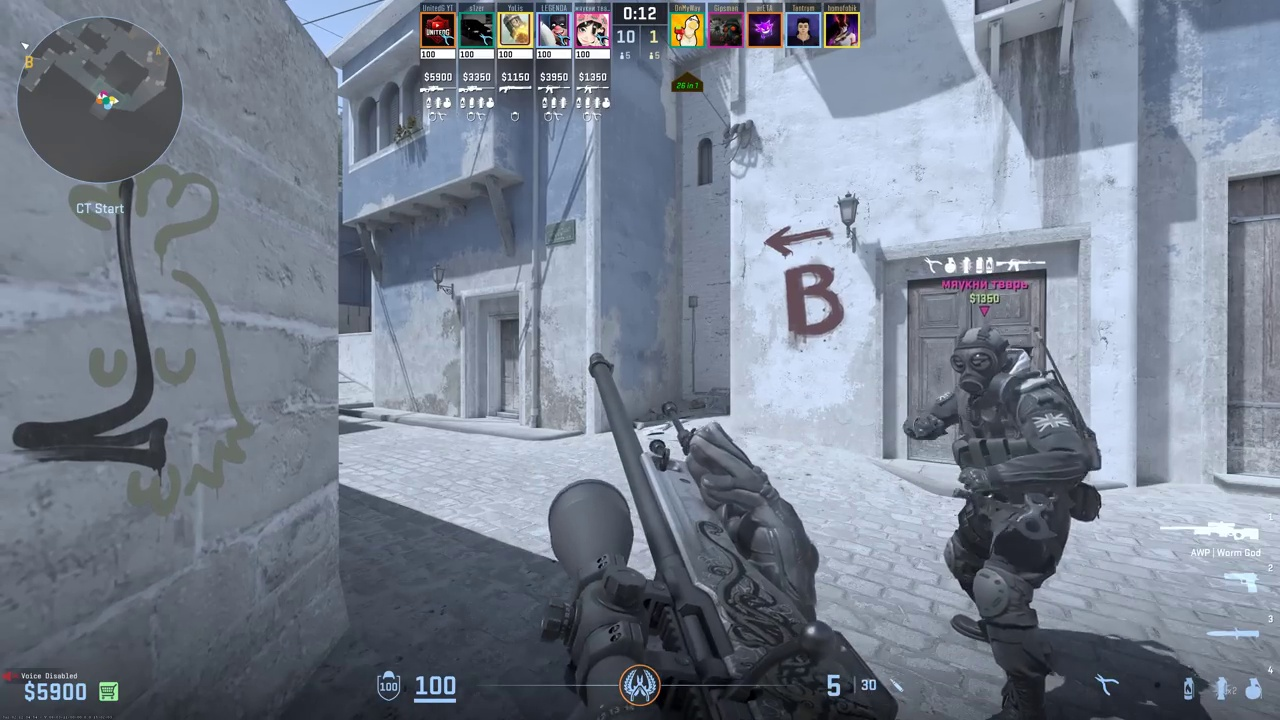CT: (933, 326, 1084, 719)
